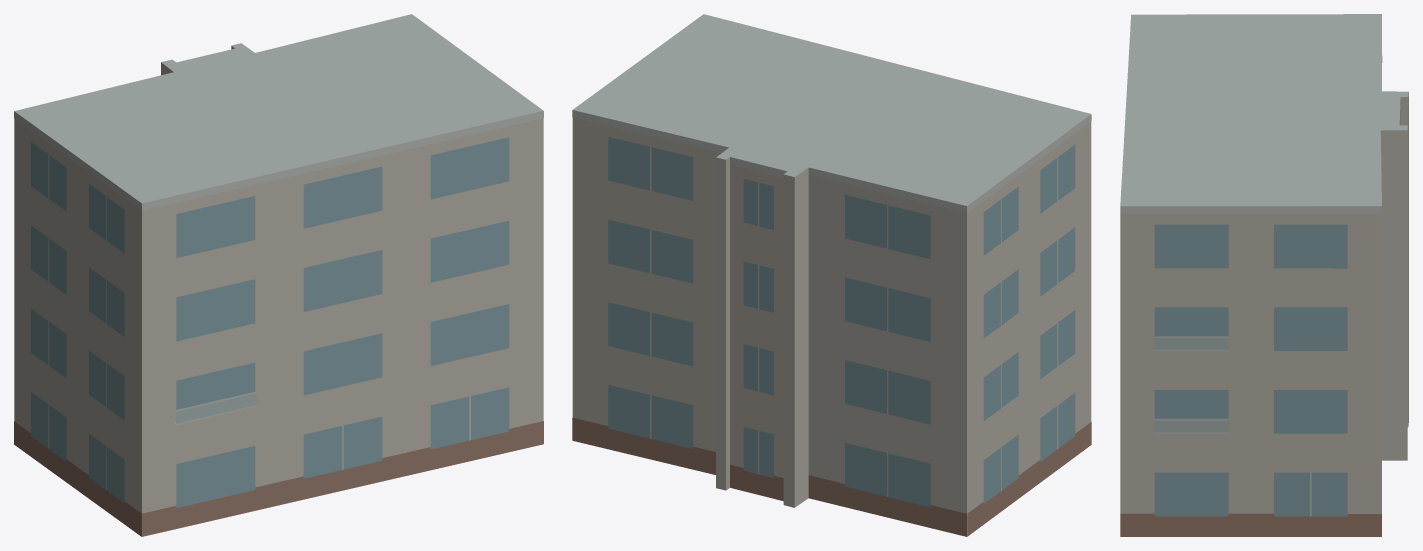
File: survey-upis-32538440.glb
The picture shows the model from 3 angles, left to right: view 1: azimuth 30°, elevation 25°; view 2: azimuth 150°, elevation 25°; view 3: azimuth 270°, elevation 25°; orthographic projection.
Parts seen in each view (by area): view 1: survey-upis-32538440.tmp; view 2: survey-upis-32538440.tmp; view 3: survey-upis-32538440.tmp.
Boxes of the visible parts, x1=… form: survey-upis-32538440.tmp: x1=14, y1=14, x2=543, y2=536; survey-upis-32538440.tmp: x1=572, y1=14, x2=1091, y2=536; survey-upis-32538440.tmp: x1=1120, y1=14, x2=1408, y2=536.
Bounding box in the file's own units: 13.77 × 11 × 8.71.
